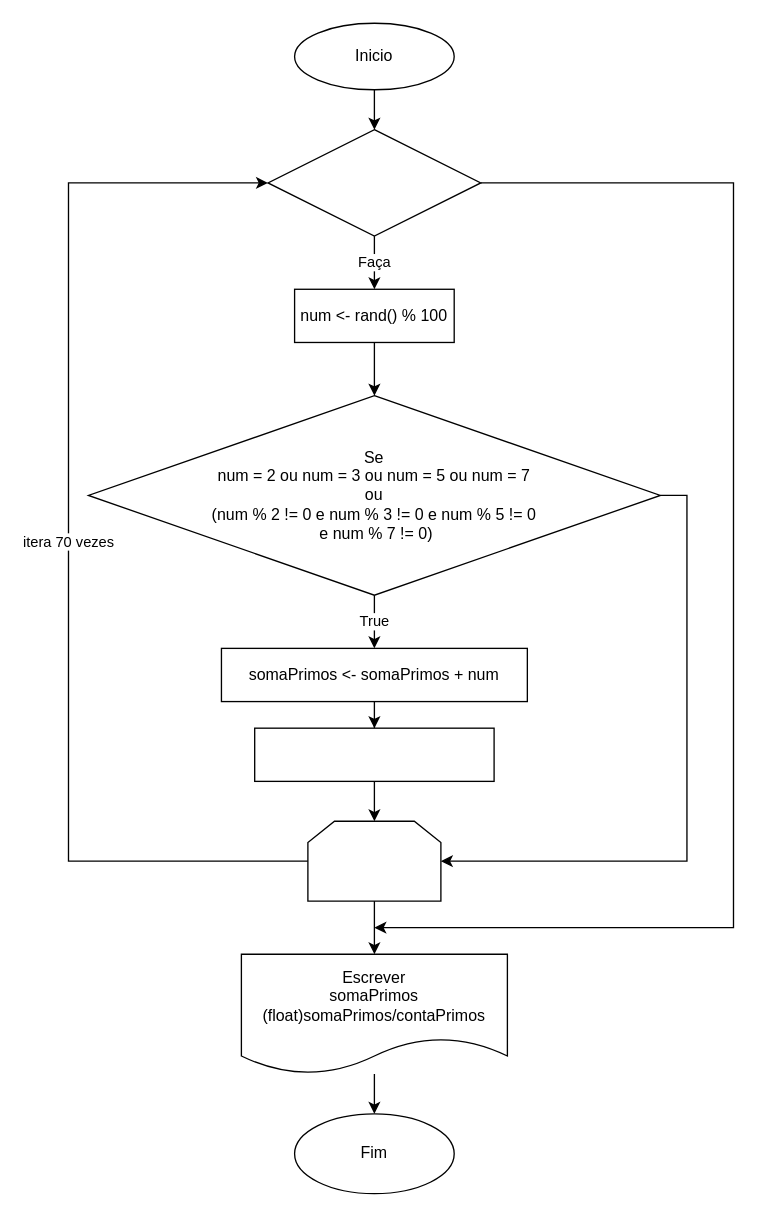
This 767x1217 diagram has some shape labels left out. The box of each missing label's shape, as (x1, y1, x2, y2) in pixels:
contaPrimos = contaPrimos + 1: (253, 727, 494, 781)
Fim-para-fazer: (307, 820, 441, 901)
i <= 70: (267, 128, 481, 236)
